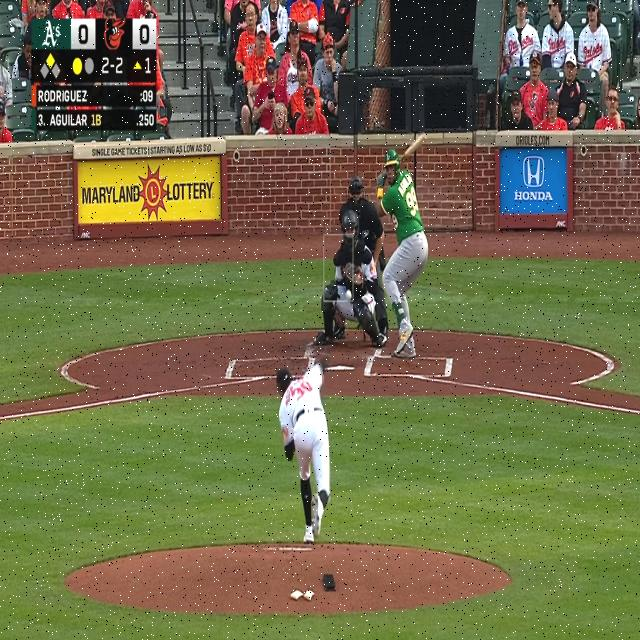baseball: (346, 289, 352, 299)
